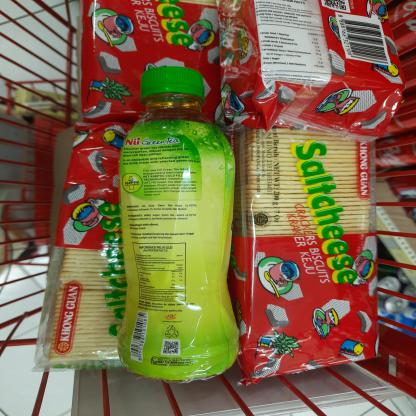bottle: (113, 61, 246, 386)
